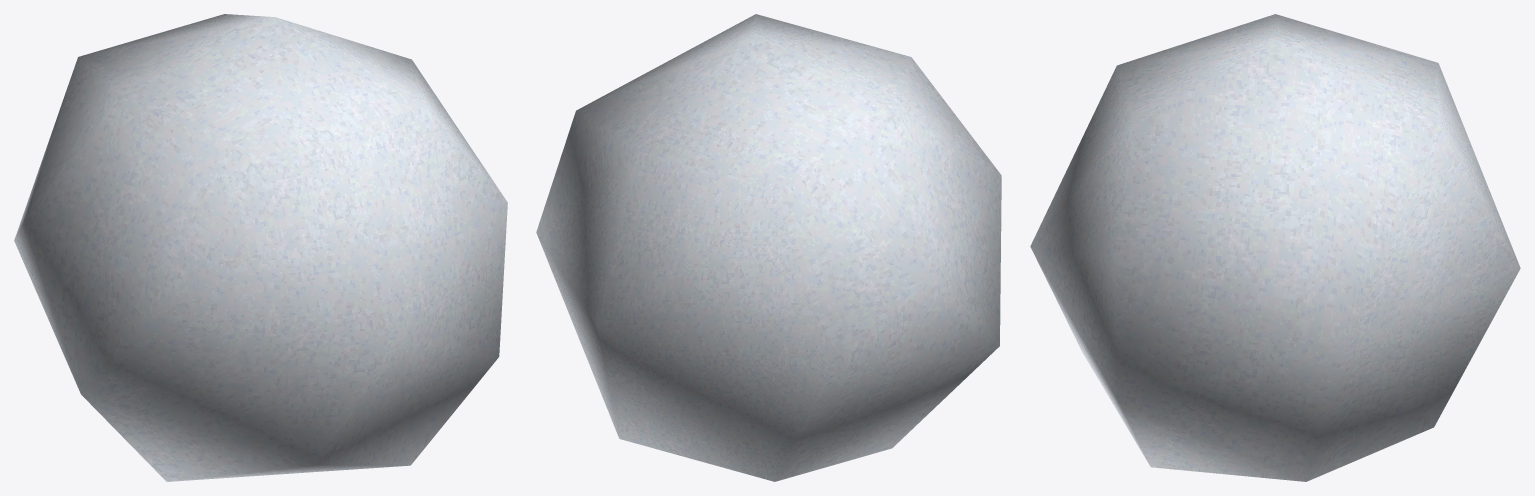
File: snow_course-rock.glb
3 renders of one model, left to right at view 1: azimuth 30°, elevation 25°; view 2: azimuth 150°, elevation 25°; view 3: azimuth 270°, elevation 25°, orthographic. The views are drawn at different scales.
Parts seen in each view (by area): view 1: rock; view 2: rock; view 3: rock.
Boxes of the visible parts, box(x1,y1,x2,y2) form: rock: box(14, 14, 507, 481); rock: box(536, 14, 1001, 481); rock: box(1030, 14, 1520, 481).
Size of the model in its own units: 3.55 by 3.56 by 3.79.
1 material, 1 textured.
